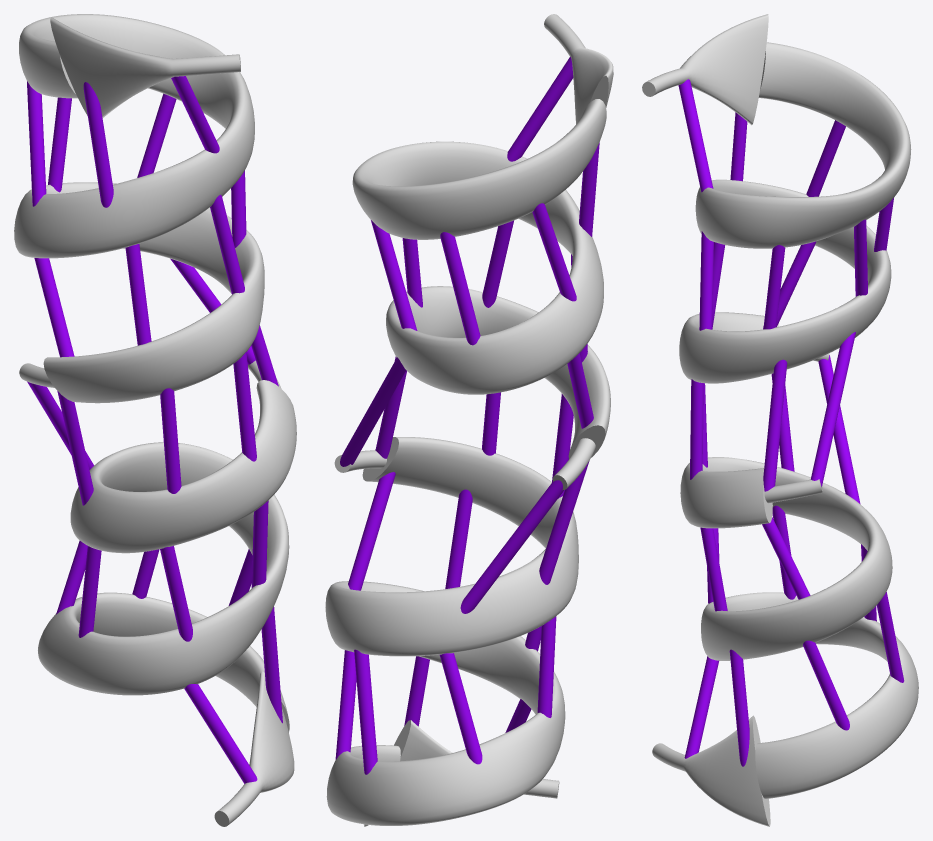
File: 1NRM-Gramicidin_Ribbon+HBonds.dae
3 renders of one model, left to right at view 1: azimuth 30°, elevation 25°; view 2: azimuth 150°, elevation 25°; view 3: azimuth 270°, elevation 25°, orthographic. The views are drawn at different scales.
Visible parts, largest first — view 1: subnode_26, subnode_24, subnode_23, subnode_8, subnode_18, subnode_4, subnode_14, subnode_12, subnode_2, subnode_19, subnode_15, subnode_3 (+13 smaller); view 2: subnode_24, subnode_26, subnode_13, subnode_25, subnode_0, subnode_10, subnode_1, subnode_5, subnode_22, subnode_20, subnode_4, subnode_17 (+12 smaller); view 3: subnode_26, subnode_24, subnode_1, subnode_16, subnode_13, subnode_20, subnode_11, subnode_8, subnode_6, subnode_2, subnode_15, subnode_7 (+12 smaller).
Part boxes in pixels (<box>): subnode_26: <box>14,14,264,403</box>; subnode_24: <box>38,360,296,824</box>; subnode_23: <box>83,82,113,207</box>; subnode_8: <box>184,684,257,783</box>; subnode_18: <box>27,81,46,206</box>; subnode_4: <box>57,391,93,505</box>; subnode_14: <box>160,388,181,493</box>; subnode_12: <box>34,258,74,357</box>; subnode_2: <box>233,352,256,461</box>; subnode_19: <box>125,244,151,345</box>; subnode_15: <box>210,194,244,294</box>; subnode_3: <box>160,546,192,641</box>; subnode_24: <box>325,437,578,825</box>; subnode_26: <box>352,14,613,488</box>; subnode_13: <box>460,480,563,613</box>; subnode_25: <box>334,75,608,826</box>; subnode_0: <box>348,472,395,590</box>; subnode_10: <box>354,649,377,774</box>; subnode_1: <box>340,357,406,466</box>; subnode_5: <box>439,653,482,764</box>; subnode_22: <box>440,232,480,345</box>; subnode_20: <box>507,56,573,161</box>; subnode_4: <box>539,461,589,584</box>; subnode_17: <box>371,220,417,330</box>; subnode_26: <box>646,14,911,383</box>; subnode_24: <box>652,457,918,826</box>; subnode_1: <box>810,332,855,486</box>; subnode_16: <box>763,359,787,491</box>; subnode_13: <box>818,355,860,503</box>; subnode_20: <box>678,79,713,192</box>; subnode_11: <box>729,649,749,766</box>; subnode_8: <box>684,656,718,758</box>; subnode_6: <box>803,640,849,730</box>; subnode_2: <box>690,379,703,479</box>; subnode_15: <box>699,231,713,330</box>; subnode_7: <box>700,527,727,611</box>.
Bounding box in the file's own units: 8.01 × 24.87 × 8.79.
